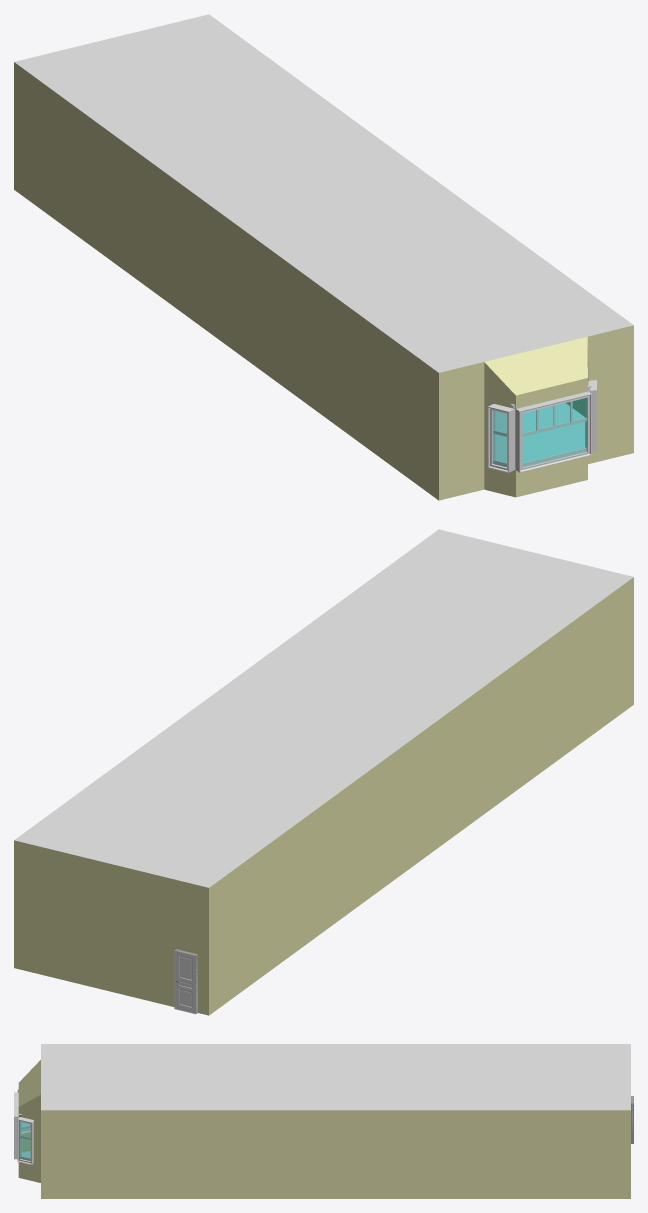
File: KitchenRoom_mar30.fbx
3 views of the same model, one above another, from view 1: azimuth 30°, elevation 25°; view 2: azimuth 150°, elevation 25°; view 3: azimuth 270°, elevation 25° (orthographic). The views are drawn at different scales.
Visible parts, largest first — view 1: polySurface453, polySurface475; view 2: polySurface453, pCube64; view 3: polySurface453, polySurface475.
Part boxes in pixels (x1,y1,x2,y2): polySurface453: (14,14,633,500); polySurface475: (488,380,596,472); polySurface453: (14,529,633,1015); pCube64: (175,951,197,1013); polySurface453: (18,1044,633,1198); polySurface475: (14,1089,33,1164).
Bounding box in the file's own units: 6.91 × 4.32 × 27.37.
